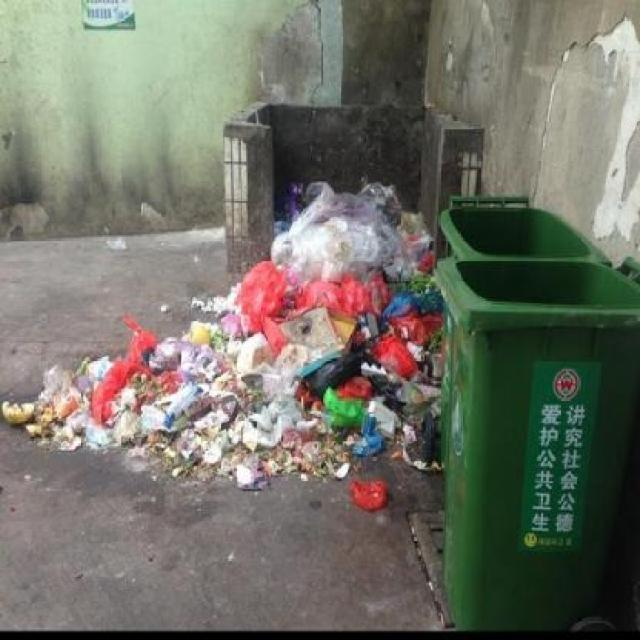garbage: (274, 188, 435, 478), (209, 257, 269, 488), (126, 326, 200, 482), (0, 381, 135, 443), (340, 477, 392, 506)
